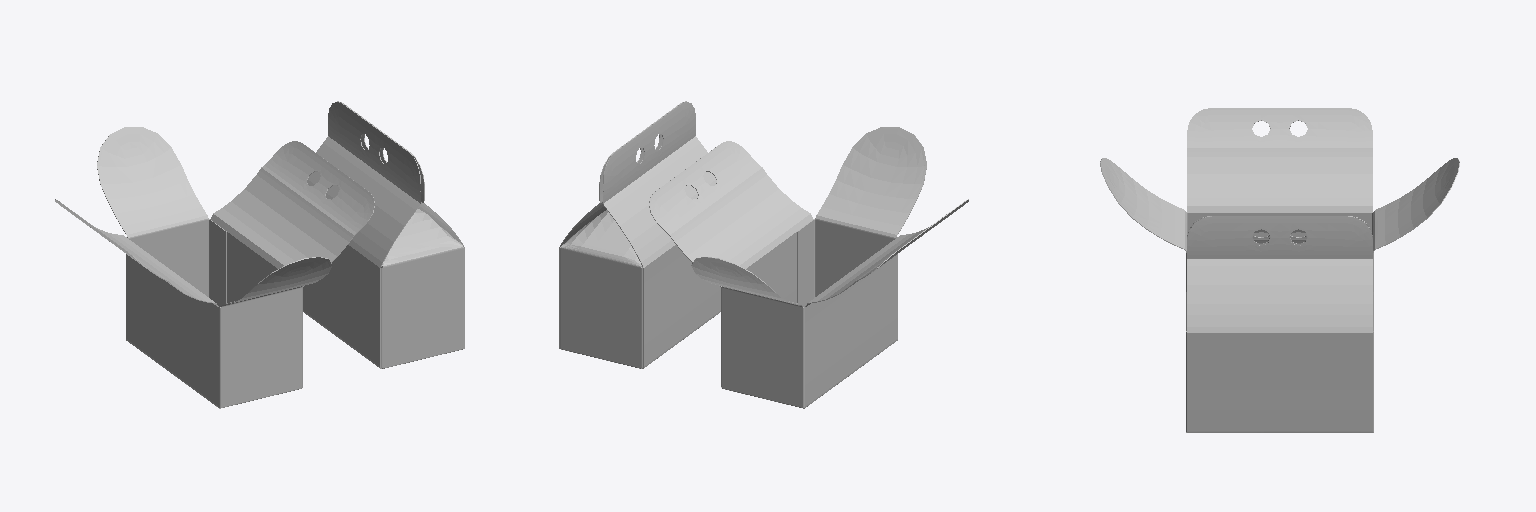
The model's file is cookie-gift-box-001.obj.
The picture shows the model from 3 angles: view 1: azimuth 30°, elevation 25°; view 2: azimuth 150°, elevation 25°; view 3: azimuth 270°, elevation 25°; orthographic projection.
Visible parts, largest first — view 1: box-pose-open, box-pose-close; view 2: box-pose-open, box-pose-close; view 3: box-pose-close, box-pose-open.
Boxes of the visible parts, <box> form: box-pose-open: <box>55,127,374,408</box>; box-pose-close: <box>303,101,464,368</box>; box-pose-open: <box>649,127,968,408</box>; box-pose-close: <box>559,101,720,368</box>; box-pose-close: <box>1186,216,1373,432</box>; box-pose-open: <box>1100,108,1459,291</box>.
Bounding box in the file's own units: 0.2014 × 0.1166 × 0.1932.